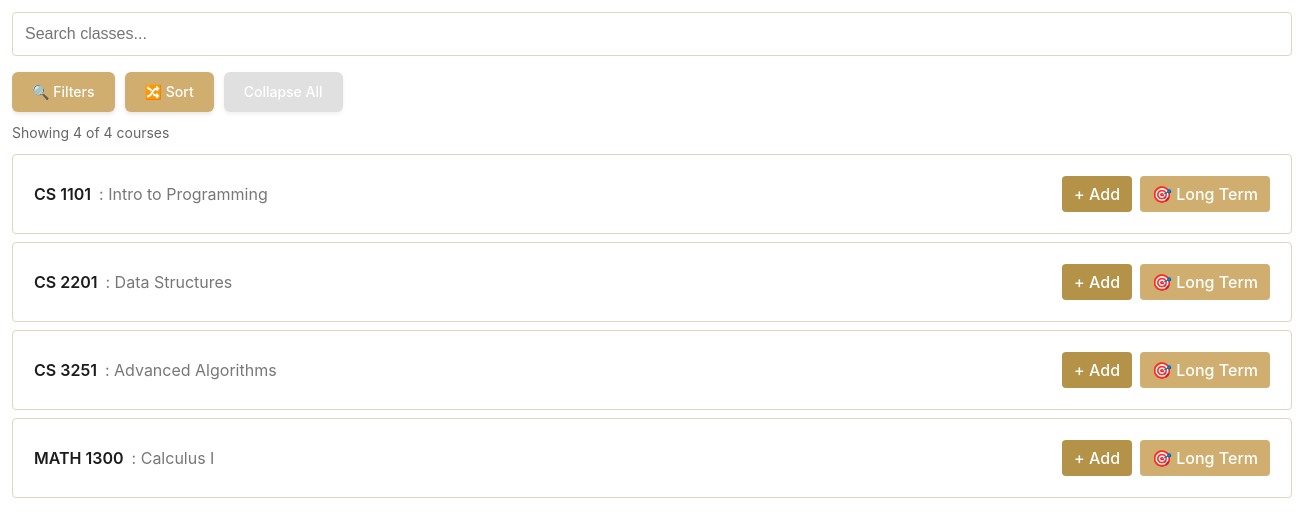
it: SearchPage › Search Functionality › filters classes by name
The width and height of the screenshot is (1304, 515).
expect the text "CS 1101" is shown: met, box left=34, top=182, right=91, bottom=207
Type "Calculus" into the field with placeholder "Search classes..." at (652, 34), box left=12, top=12, right=1292, bottom=56
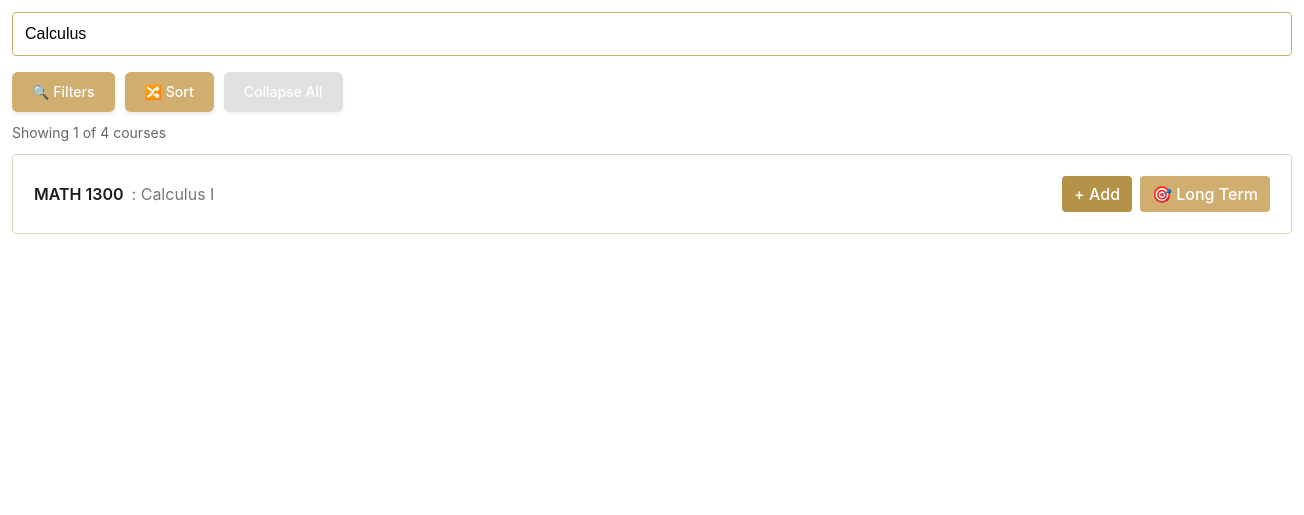
expect the text "MATH 1300" is shown: met, box left=34, top=182, right=124, bottom=207
expect the text "CS 1101" is gone: met
